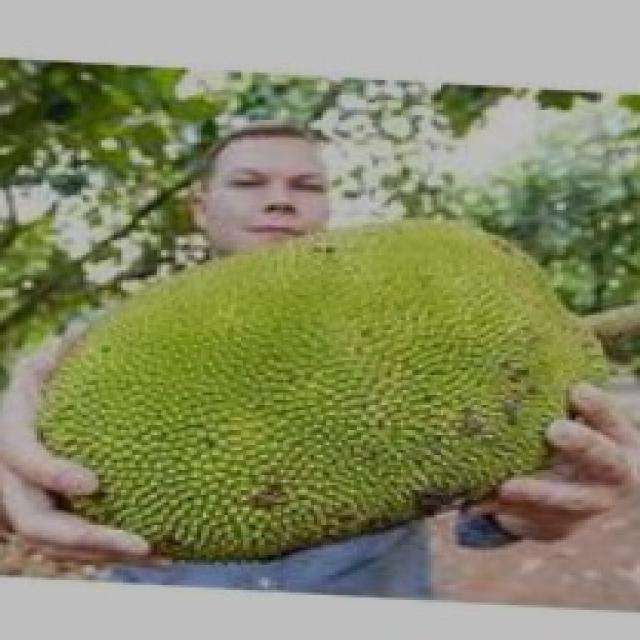Fruit: (12, 210, 440, 590), (222, 190, 630, 568)
